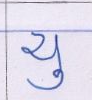u_matra: (26, 69, 68, 91)
